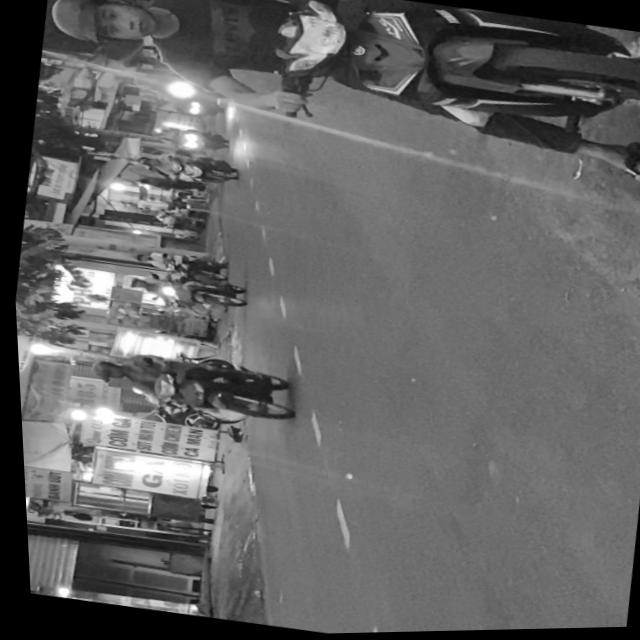helmet: (43, 0, 163, 58), (81, 359, 125, 386)
licenseplate: (31, 0, 640, 196), (76, 338, 297, 435)
